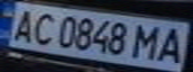0: (51, 14, 78, 50)
4: (90, 18, 112, 55)
8: (106, 19, 133, 56), (72, 16, 96, 52)
A: (3, 7, 42, 43), (154, 25, 190, 64)
C: (24, 10, 60, 46)
M: (130, 21, 166, 61)
